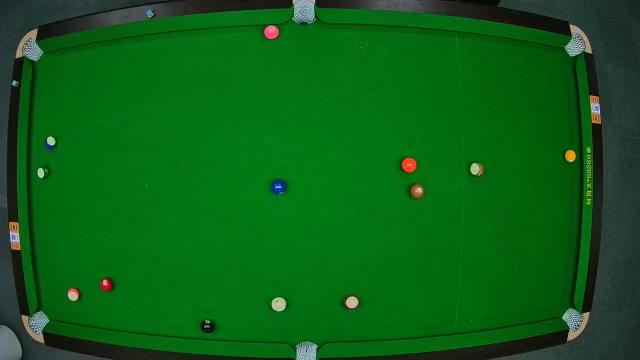bag1: (20, 40, 40, 61)
bag2: (292, 1, 316, 24)
bag3: (566, 35, 586, 55)
bag4: (28, 312, 48, 332)
bag5: (294, 340, 318, 360)
bag6: (562, 309, 584, 331)
ball0: (272, 296, 286, 312)
ball1: (564, 148, 576, 162)
ball10: (45, 135, 57, 149)
ball11: (345, 294, 359, 310)
ball12: (68, 288, 80, 302)
ball14: (36, 166, 50, 178)
ball15: (470, 162, 484, 176)
ball2: (270, 180, 286, 196)
ball3: (100, 276, 112, 292)
ball4: (263, 24, 281, 40)
ball5: (402, 158, 418, 172)
ball7: (410, 184, 424, 198)
ball8: (200, 319, 216, 333)
